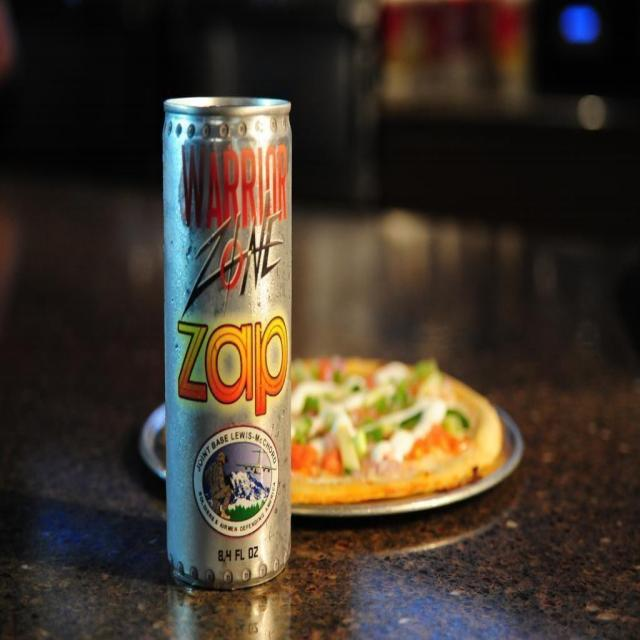tin can: (156, 93, 298, 598)
